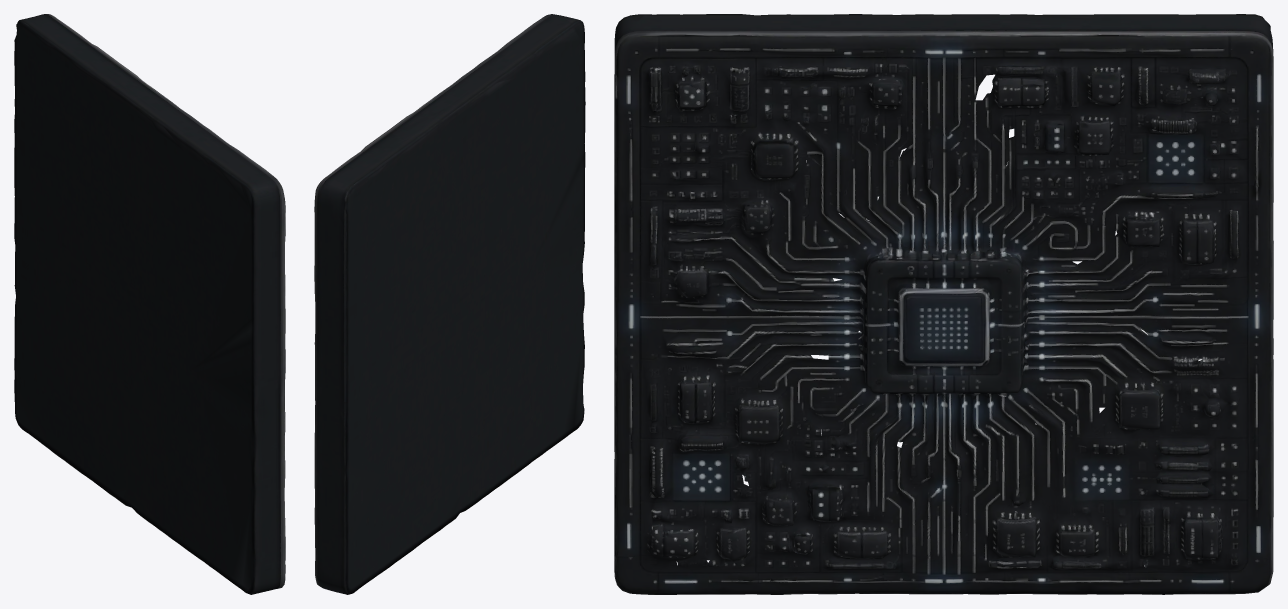
Rendered from circuit-board.glb.
The picture shows the model from 3 angles, left to right: view 1: azimuth 30°, elevation 25°; view 2: azimuth 150°, elevation 25°; view 3: azimuth 270°, elevation 25°; orthographic projection. The views are drawn at different scales.
Parts seen in each view (by area): view 1: tripo_node_51add19a; view 2: tripo_node_51add19a; view 3: tripo_node_51add19a.
Part boxes in pixels (x1,y1,x2,y2): tripo_node_51add19a: (14,14,285,594); tripo_node_51add19a: (314,14,585,594); tripo_node_51add19a: (614,14,1273,594).
Size of the model in its own units: 11.62 by 92.3 by 98.22.
1 material, 1 textured.
